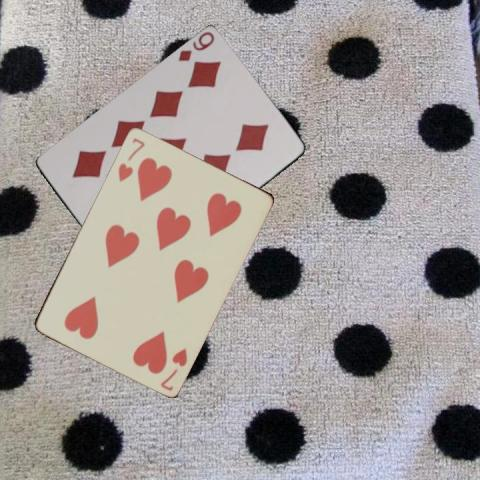7h: (114, 134, 146, 183), (157, 345, 189, 392)
9d: (175, 29, 216, 63)
